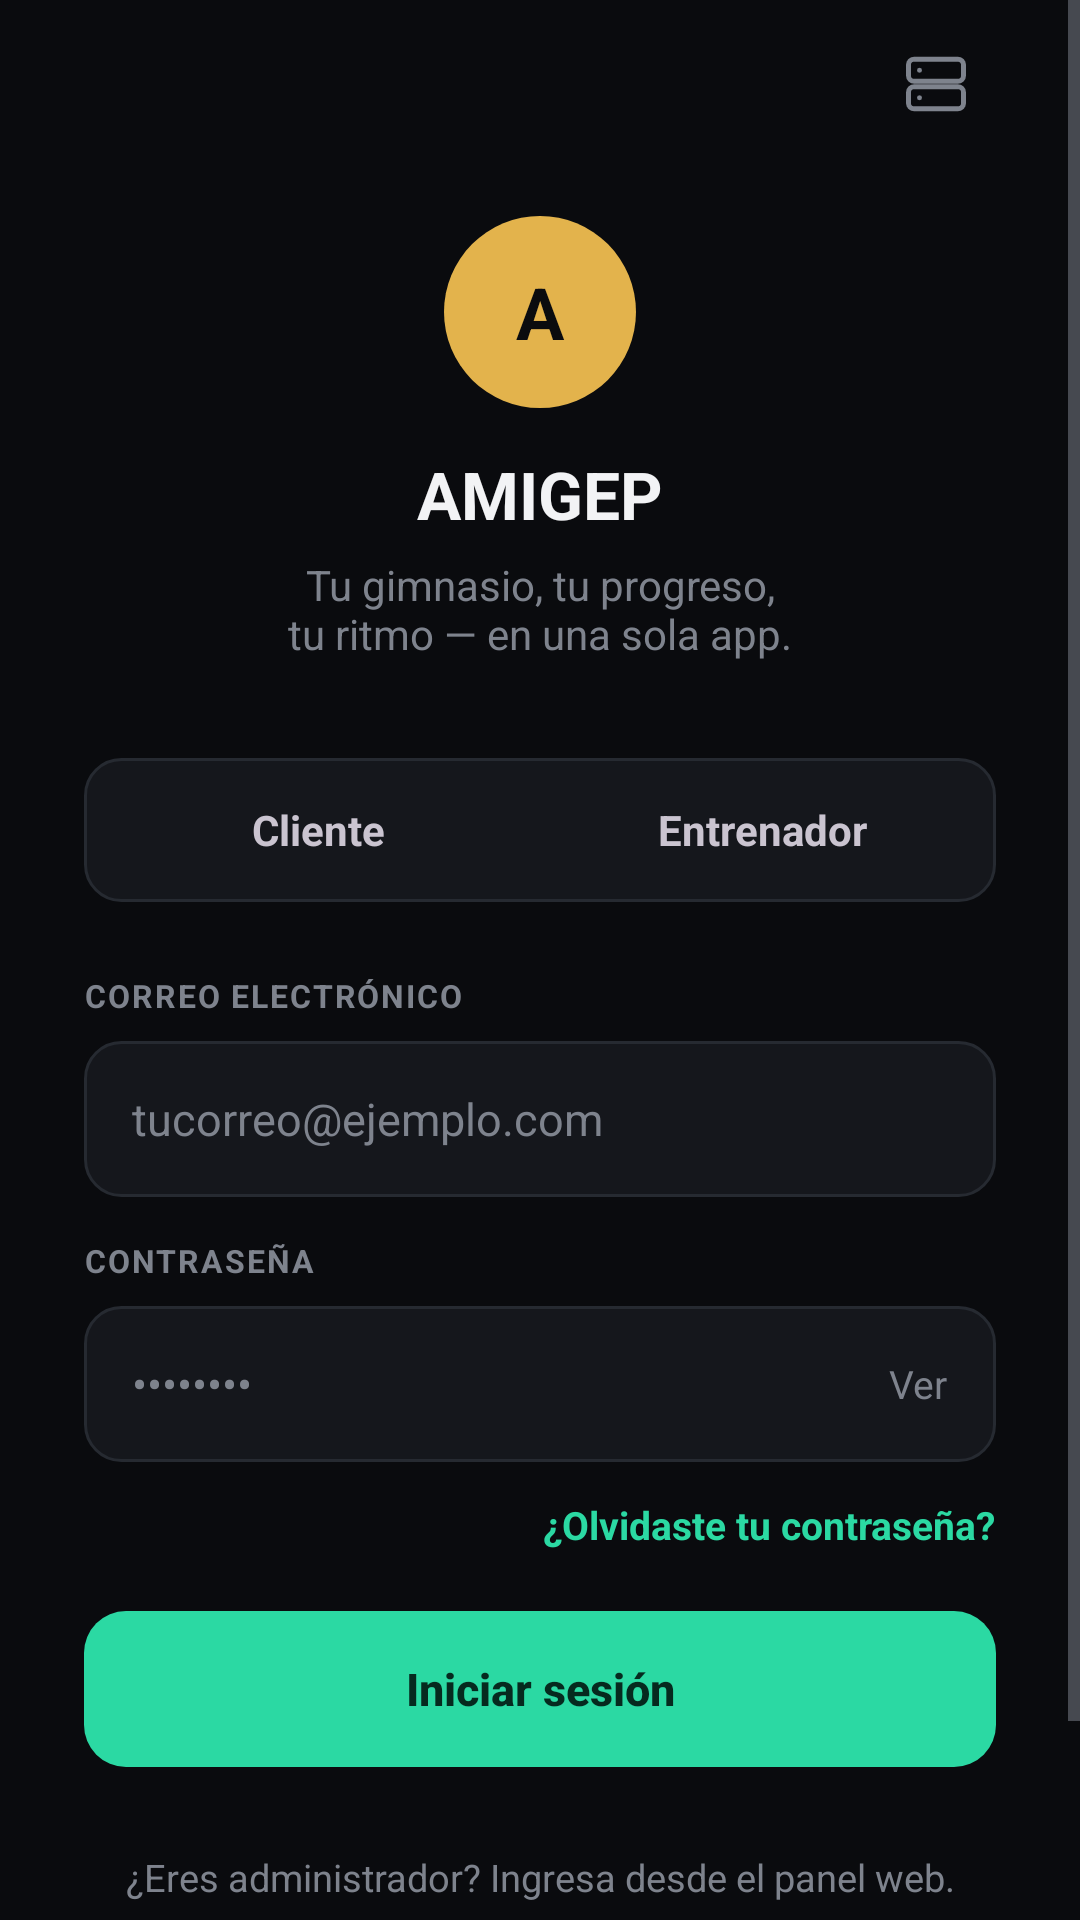

Named icons in this screenshot (1080*1920) and their centers, (x,y):
Configurar servidor: (936,84)
